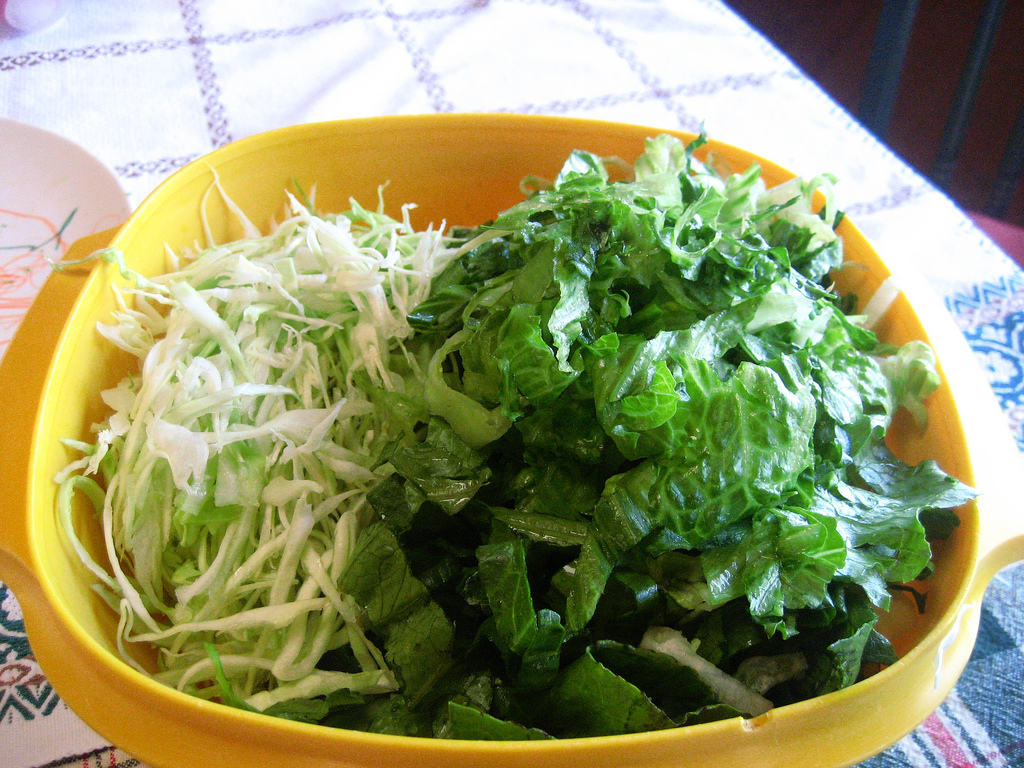chopped lettuce: (540, 184, 886, 676)
